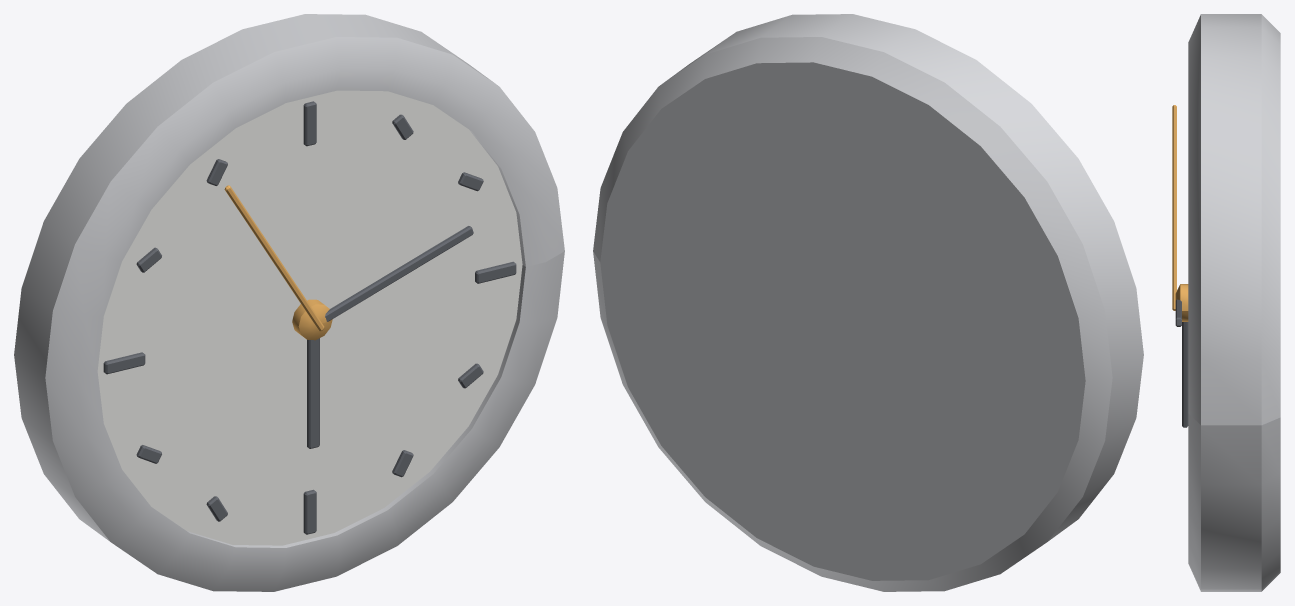
Rendered from L-wall-clock.glb.
The picture shows the model from 3 angles, left to right: view 1: azimuth 30°, elevation 25°; view 2: azimuth 150°, elevation 25°; view 3: azimuth 270°, elevation 25°; orthographic projection. The views are drawn at different scales.
Visible parts, largest first — view 1: wall-clock; view 2: wall-clock; view 3: wall-clock.
Boxes of the visible parts, x1,y1,x2,y2 form: wall-clock: [14, 14, 564, 591]; wall-clock: [593, 14, 1143, 591]; wall-clock: [1172, 14, 1280, 591].
Bounding box in the file's own units: 0.364 × 0.3613 × 0.068.
